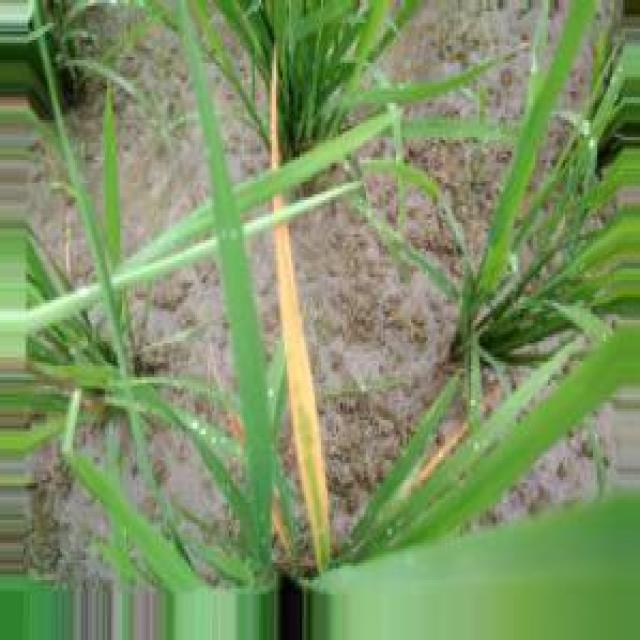Rice Tungro: (274, 224, 331, 570), (411, 422, 469, 490), (269, 43, 281, 169)
